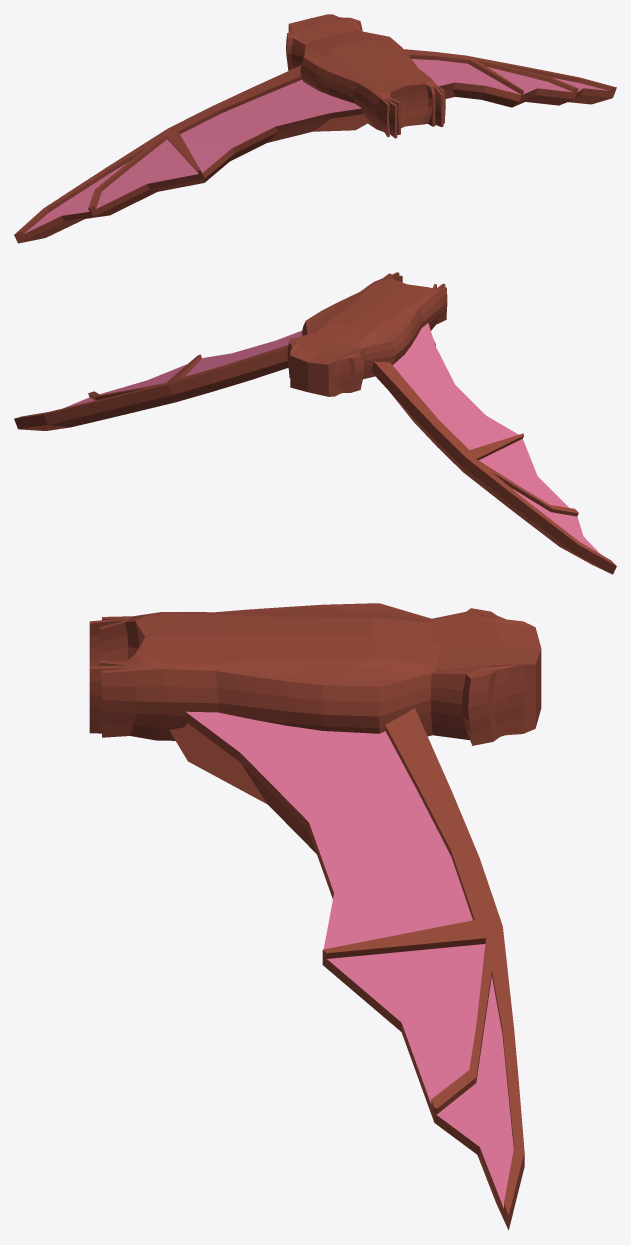
File: BatTiny.fbx
3 views of the same model, one above another, from view 1: azimuth 30°, elevation 25°; view 2: azimuth 150°, elevation 25°; view 3: azimuth 270°, elevation 25° (orthographic). The views are drawn at different scales.
Visible parts, largest first — view 1: R_Wing.001, Body.001, L_Wing.001; view 2: R_Wing.001, Body.001, L_Wing.001; view 3: L_Wing.001, Body.001.
Boxes of the visible parts, <box> form: R_Wing.001: <box>14,65,370,243</box>; Body.001: <box>286,14,445,138</box>; L_Wing.001: <box>404,49,616,107</box>; R_Wing.001: <box>371,323,616,574</box>; Body.001: <box>287,272,447,396</box>; L_Wing.001: <box>14,330,302,430</box>; L_Wing.001: <box>169,707,524,1230</box>; Body.001: <box>89,603,541,745</box>.
Size of the model in its own units: 103 by 24.63 by 33.28.
